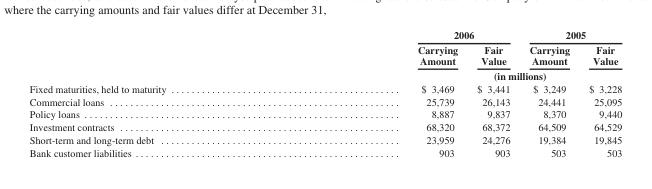table: (28, 28, 621, 157)
table column: (28, 28, 291, 157), (291, 28, 466, 157), (519, 28, 578, 157), (466, 28, 519, 157), (578, 28, 621, 157)
table column header: (28, 28, 621, 81)
table row: (28, 42, 621, 67), (28, 28, 621, 42), (28, 67, 621, 81), (28, 81, 621, 94), (28, 94, 621, 107), (28, 107, 621, 120), (28, 120, 621, 133), (28, 133, 621, 145), (28, 145, 621, 157)
table spanning cell: (291, 67, 621, 81), (291, 28, 519, 42), (519, 28, 621, 42)
